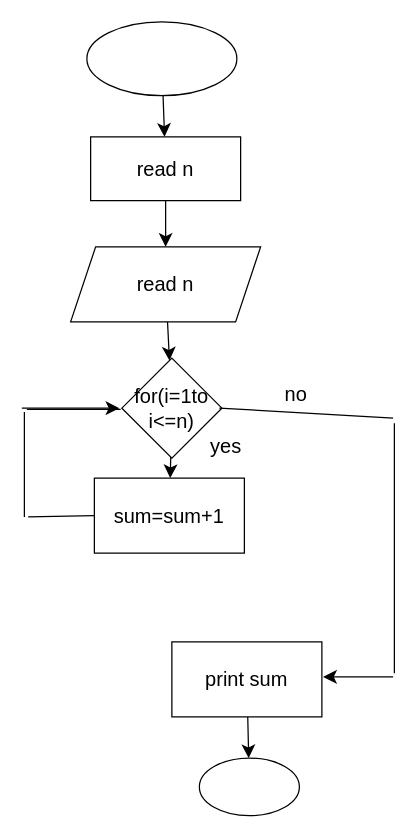
Image size: 418x838. Some labels were removed from this diagram. Here are the shapes that lost their labels. From the top down, the centre of each, then its label:
(161,58): start
(248,786): end
